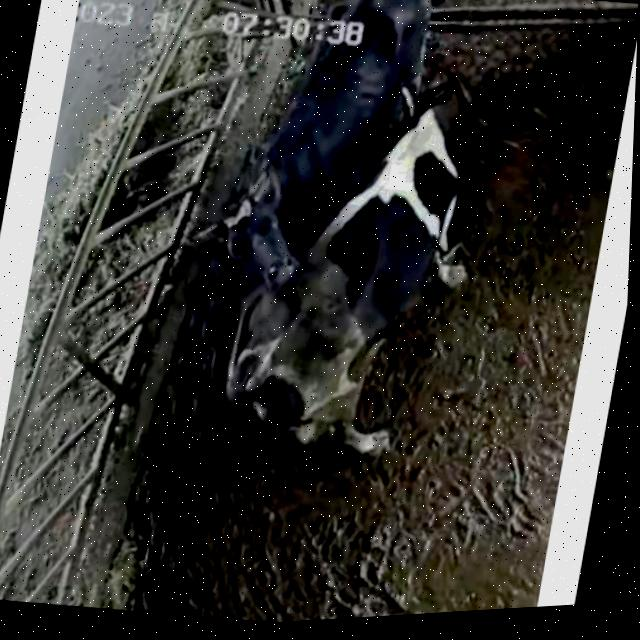propping: (149, 149, 375, 367)
